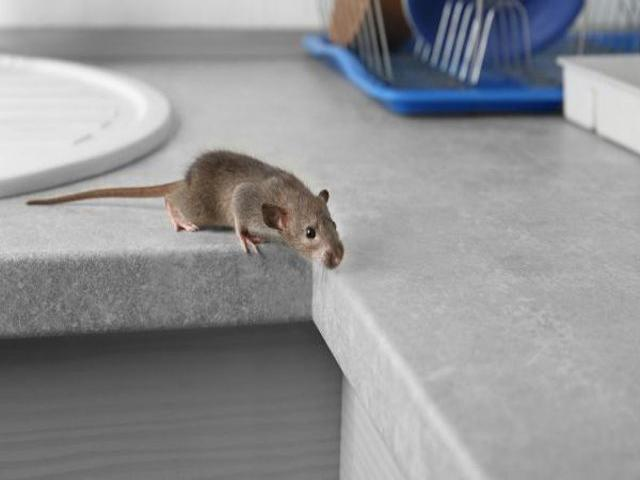Tikus: (30, 144, 367, 281)
